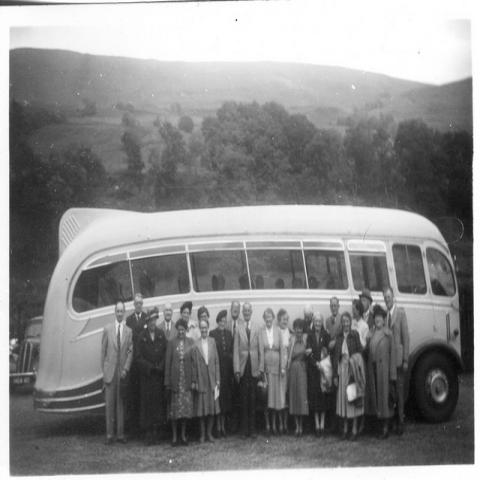bus: (29, 203, 468, 428)
car: (9, 315, 44, 395)
